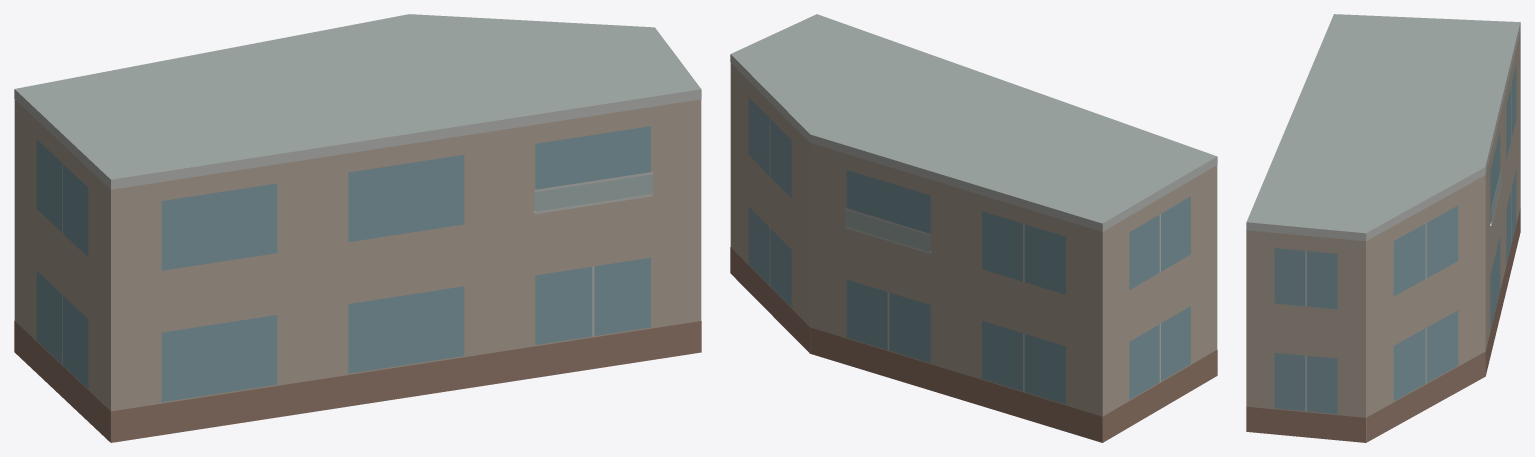
File: survey-upis-32680950.glb
3 renders of one model, left to right at view 1: azimuth 30°, elevation 25°; view 2: azimuth 150°, elevation 25°; view 3: azimuth 270°, elevation 25°, orthographic. The views are drawn at different scales.
Parts seen in each view (by area): view 1: survey-upis-32680950.tmp; view 2: survey-upis-32680950.tmp; view 3: survey-upis-32680950.tmp.
Boxes of the visible parts, x1=… form: survey-upis-32680950.tmp: x1=14, y1=14, x2=701, y2=442; survey-upis-32680950.tmp: x1=730, y1=14, x2=1217, y2=442; survey-upis-32680950.tmp: x1=1246, y1=14, x2=1520, y2=442.
Bounding box in the file's own units: 14.37 × 6.4 × 7.6.
